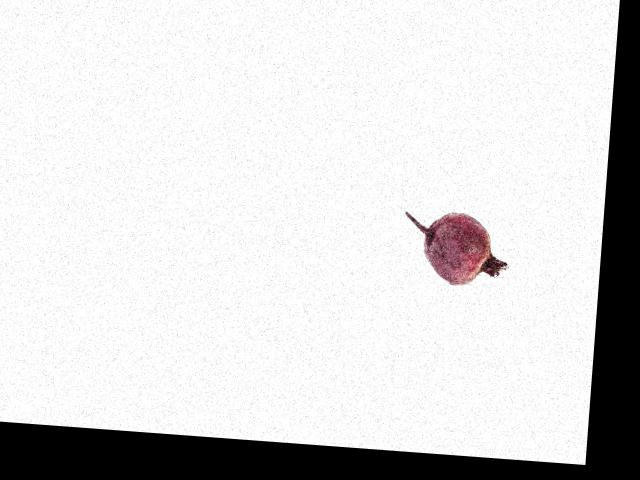beet: (400, 208, 512, 288)
